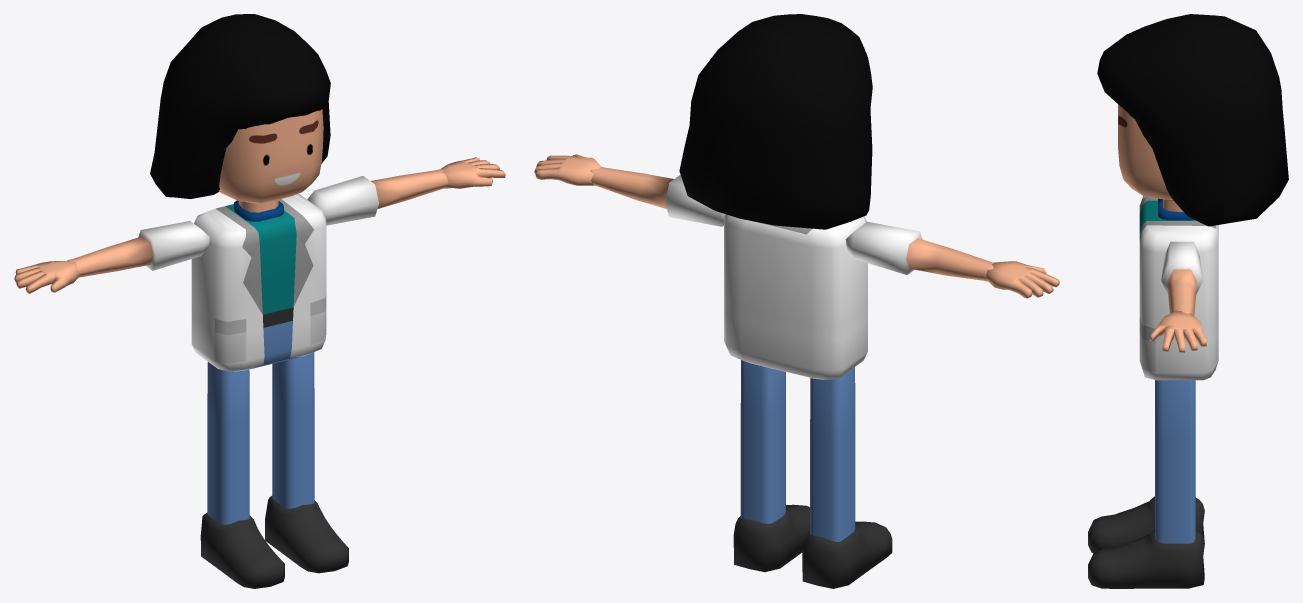
File: NPC_White02_BlackHair05.gltf
The picture shows the model from 3 angles, left to right: view 1: azimuth 30°, elevation 25°; view 2: azimuth 150°, elevation 25°; view 3: azimuth 270°, elevation 25°; orthographic projection. The views are drawn at different scales.
Parts seen in each view (by area): view 1: NPC_Corpo_White2_BlackHair.005; view 2: NPC_Corpo_White2_BlackHair.005; view 3: NPC_Corpo_White2_BlackHair.005.
Boxes of the visible parts, x1=… form: NPC_Corpo_White2_BlackHair.005: x1=14, y1=14, x2=505, y2=588; NPC_Corpo_White2_BlackHair.005: x1=534, y1=14, x2=1059, y2=588; NPC_Corpo_White2_BlackHair.005: x1=1088, y1=14, x2=1288, y2=588.
Bounding box in the file's own units: 2.31 × 2.37 × 0.7967.
Materials: 1 (1 with a texture image).
